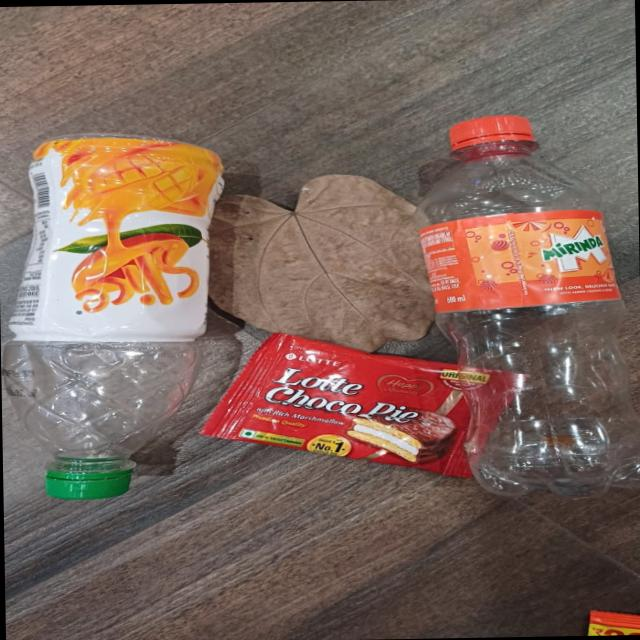Leaf-Bio: (205, 168, 440, 356)
Plastic-NonBio: (417, 109, 640, 498), (8, 121, 230, 503), (195, 327, 516, 481)
